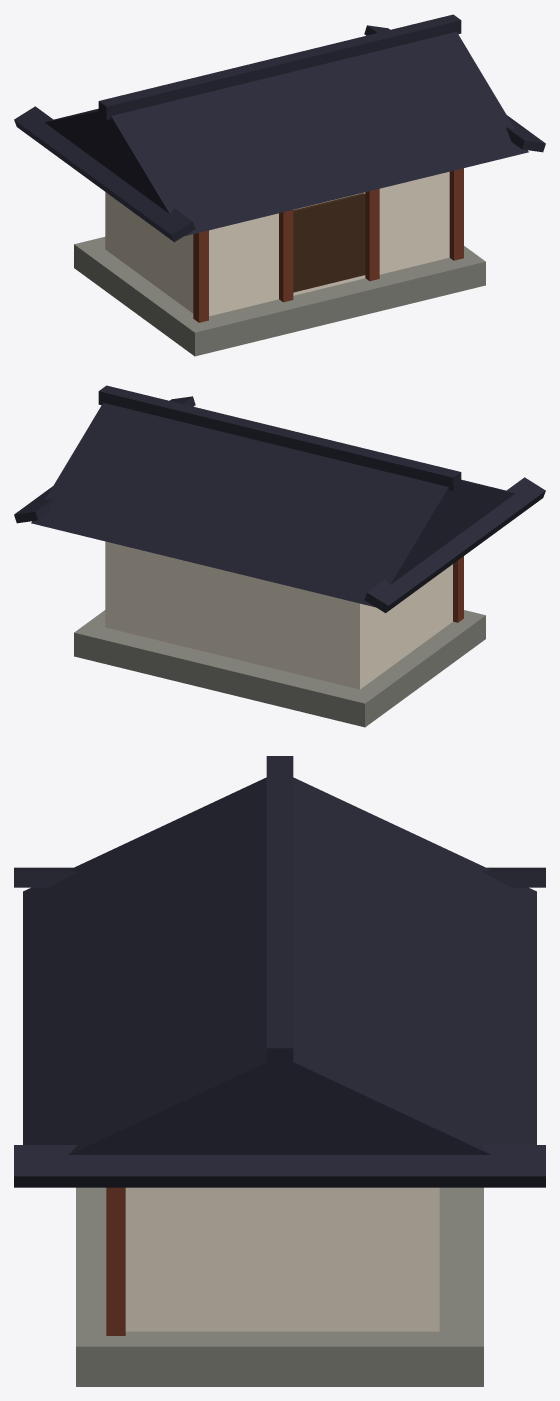
Rendered from prop_giwa.obj.
3 renders of one model, top to bottom at view 1: azimuth 30°, elevation 25°; view 2: azimuth 150°, elevation 25°; view 3: azimuth 270°, elevation 25°, orthographic. The views are drawn at different scales.
Visible parts, largest first — view 1: prop_giwa_0_4, prop_giwa_0_1, prop_giwa_0_0, prop_giwa_0_3, prop_giwa_0_2; view 2: prop_giwa_0_4, prop_giwa_0_1, prop_giwa_0_0, prop_giwa_0_2; view 3: prop_giwa_0_4, prop_giwa_0_1, prop_giwa_0_0, prop_giwa_0_2.
Boxes of the visible parts, box(x1,y1,x2,y2) form: prop_giwa_0_4: box(14, 14, 545, 242); prop_giwa_0_1: box(105, 171, 449, 316); prop_giwa_0_0: box(74, 237, 485, 356); prop_giwa_0_3: box(293, 193, 365, 292); prop_giwa_0_2: box(193, 168, 463, 322); prop_giwa_0_4: box(14, 385, 545, 613); prop_giwa_0_1: box(105, 541, 452, 689); prop_giwa_0_0: box(74, 610, 485, 727); prop_giwa_0_2: box(453, 556, 463, 622); prop_giwa_0_4: box(14, 756, 545, 1187); prop_giwa_0_1: box(125, 1187, 439, 1331); prop_giwa_0_0: box(76, 1187, 483, 1386); prop_giwa_0_2: box(106, 1187, 125, 1335).
Size of the model in its own units: 8.23 by 4.54 by 6.
